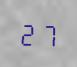seven: (38, 20, 56, 47)
two: (19, 19, 37, 46)
